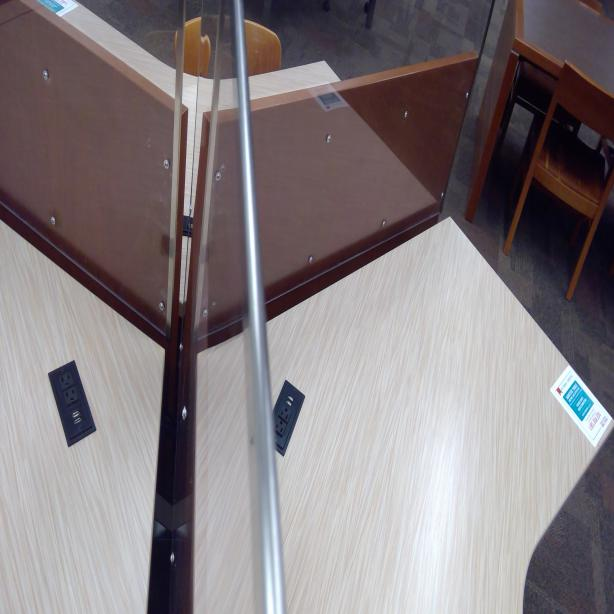typeb: (59, 368, 73, 390), (65, 386, 78, 406), (278, 402, 291, 421), (274, 420, 286, 437)
